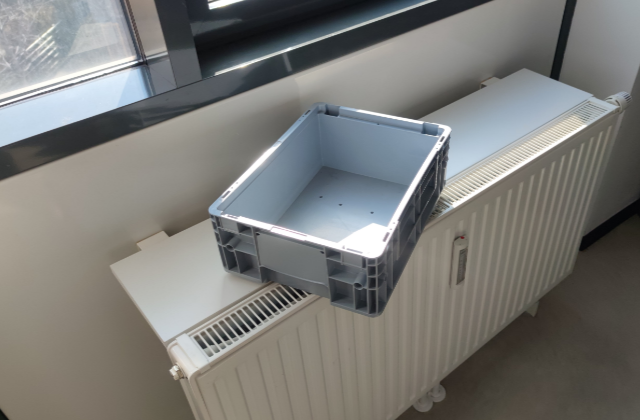Box: (207, 99, 454, 318)
